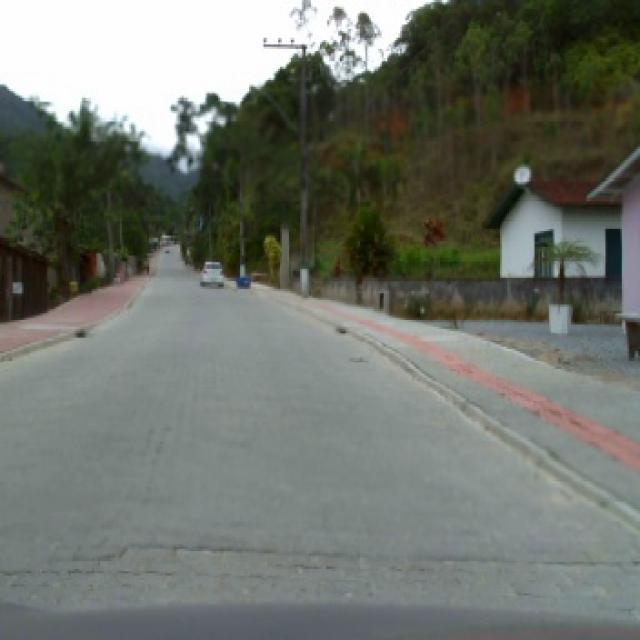Poth-hole: (72, 327, 84, 338), (334, 324, 346, 334)
